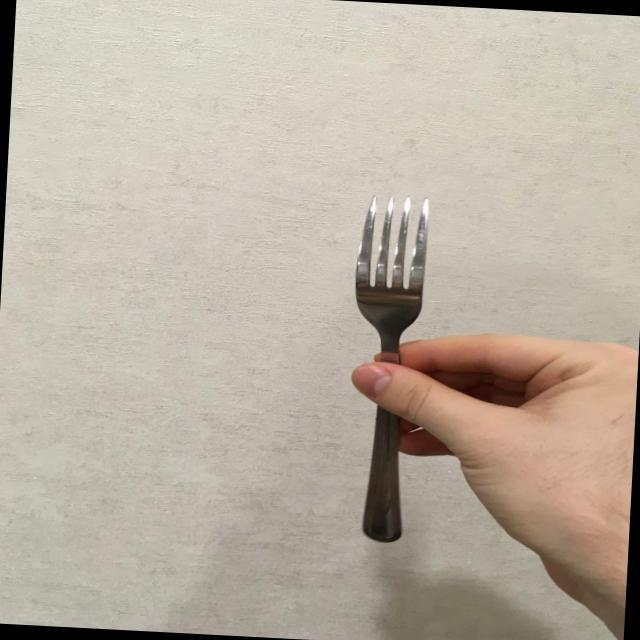fork: (341, 191, 434, 545)
